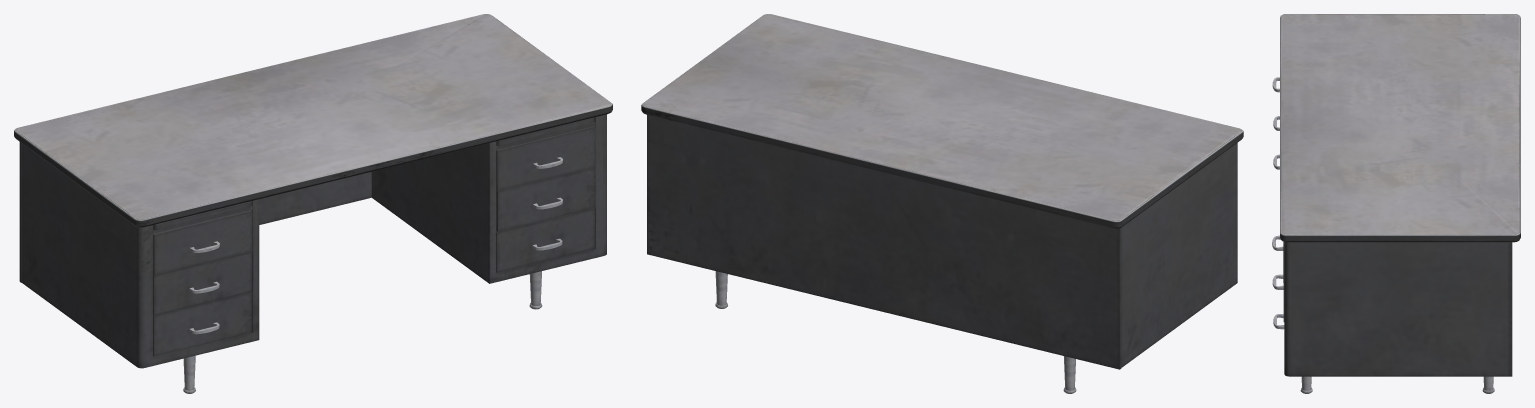
Rendered from metal_office_desk.glb.
3 views of the same model, side by side, from view 1: azimuth 30°, elevation 25°; view 2: azimuth 150°, elevation 25°; view 3: azimuth 270°, elevation 25° (orthographic). The views are drawn at different scales.
Visible parts, largest first — view 1: metal_office_desk_drawer_06; view 2: metal_office_desk_drawer_06; view 3: metal_office_desk_drawer_06.
Part boxes in pixels (bbox=[...]): metal_office_desk_drawer_06: bbox=[14, 14, 612, 393]; metal_office_desk_drawer_06: bbox=[641, 14, 1243, 393]; metal_office_desk_drawer_06: bbox=[1272, 14, 1520, 393].
Bounding box in the file's own units: 2 × 0.7874 × 0.9471.
1 material, 1 textured.
